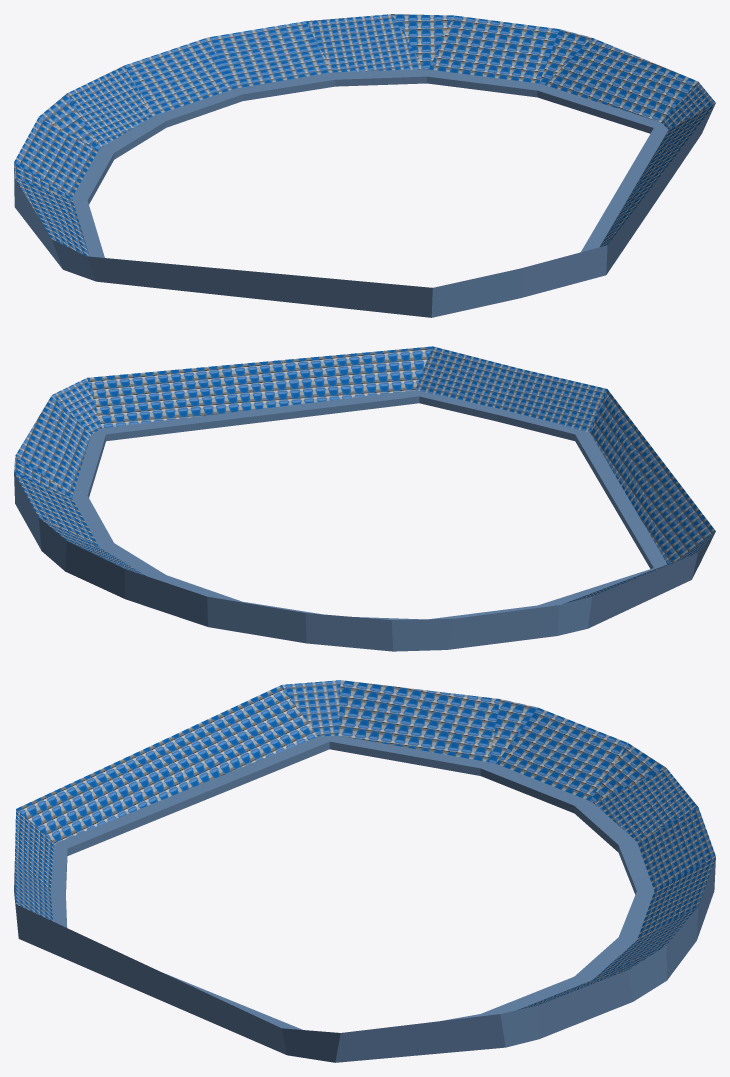
Rendered from stadium_Kankyaku.fbx.
3 renders of one model, top to bottom at view 1: azimuth 30°, elevation 25°; view 2: azimuth 150°, elevation 25°; view 3: azimuth 270°, elevation 25°, orthographic. The views are drawn at different scales.
Parts seen in each view (by area): view 1: 立方体; view 2: 立方体; view 3: 立方体.
Boxes of the visible parts, x1,y1,x2,y2 form: 立方体: (14,14,715,317); 立方体: (14,346,715,651); 立方体: (14,680,715,1062).
Bounding box in the file's own units: 407 × 22.73 × 342.
Materials: 1 (1 with a texture image).
